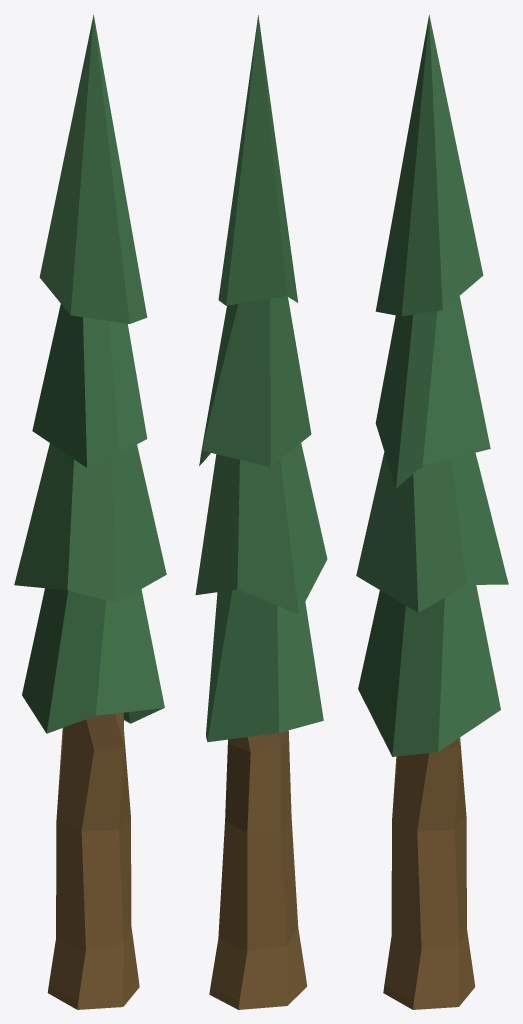
File: Trees 3.fbx
The picture shows the model from 3 angles, left to right: view 1: azimuth 90°, elevation 25°; view 2: azimuth 210°, elevation 25°; view 3: azimuth 270°, elevation 25°; orthographic projection.
Parts seen in each view (by area): view 1: Tree 2; view 2: Tree 2; view 3: Tree 2.
Part boxes in pixels (x1,y1,x2,y2): Tree 2: [14, 15, 166, 1009]; Tree 2: [195, 15, 327, 1009]; Tree 2: [356, 15, 508, 1009].
Size of the model in its own units: 186 by 1531 by 217.
